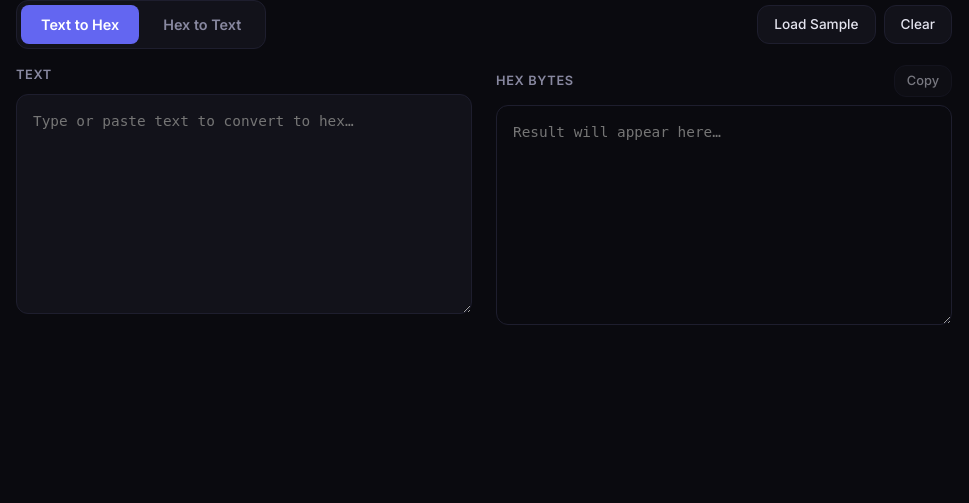
Scenario: HexInspectorTool Hex to Text mode › decodes valid hex bytes back into text
The width and height of the screenshot is (969, 503).
Click the button "Hex to Text" at [202, 24], box [143, 5, 261, 44]
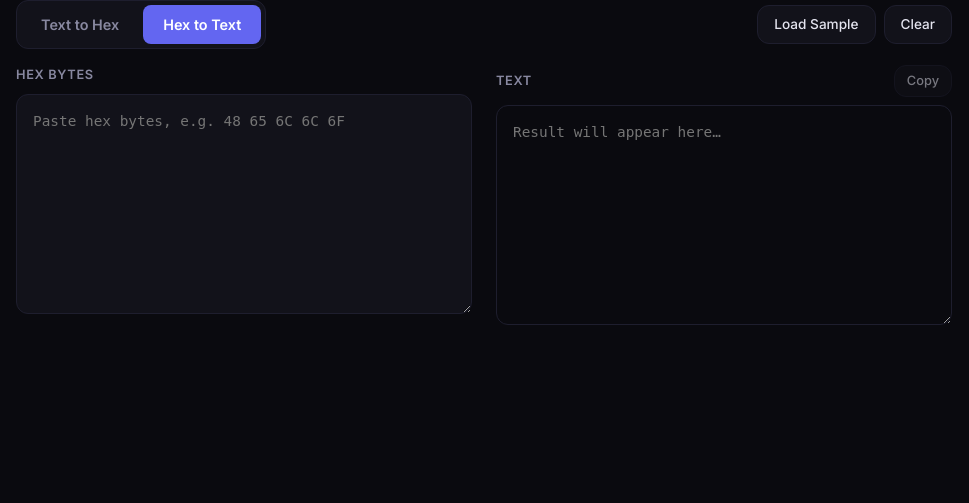
Type "48 69" into the text box labelled "Hex bytes" at [244, 204], box [16, 94, 472, 314]
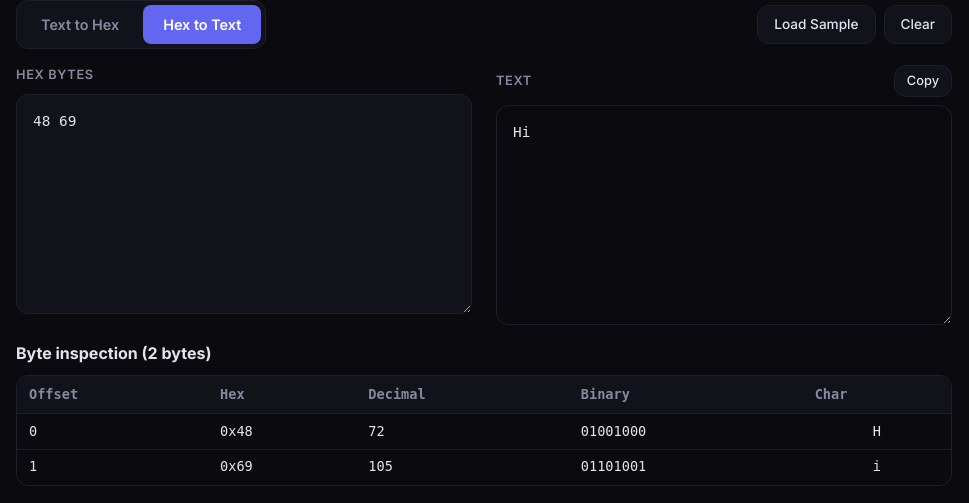
Now the text box labelled "Text" holds "Hi", box [496, 105, 952, 325]
